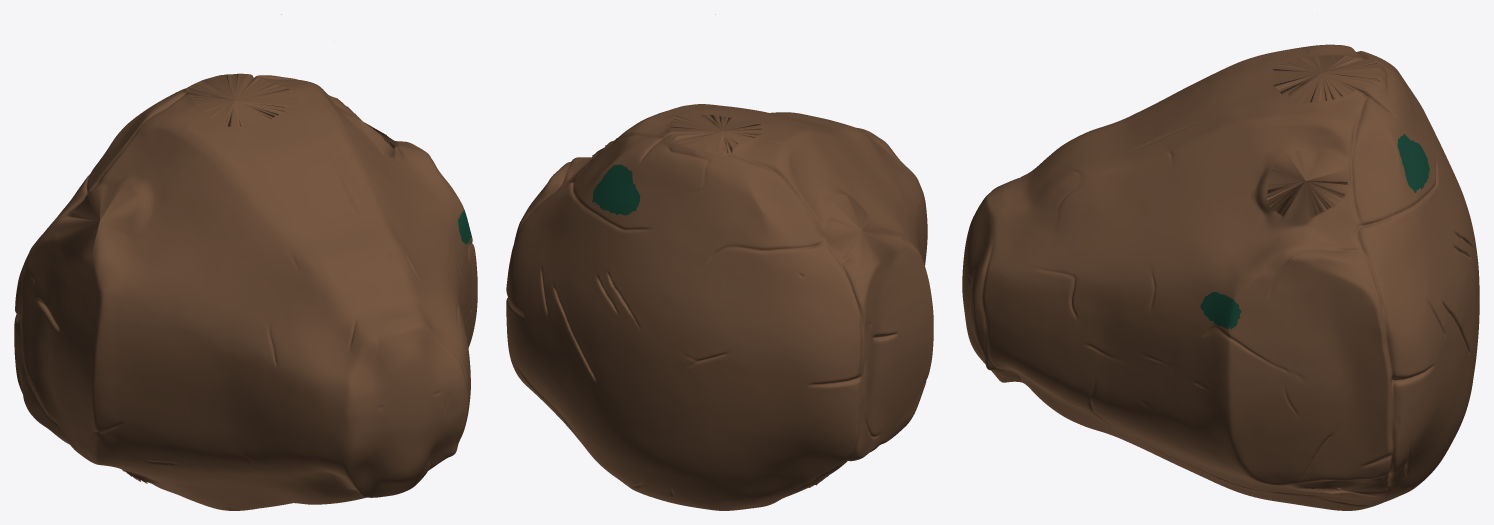
File: cuerpoRocky.obj
The picture shows the model from 3 angles, left to right: view 1: azimuth 30°, elevation 25°; view 2: azimuth 150°, elevation 25°; view 3: azimuth 270°, elevation 25°; orthographic projection. The views are drawn at different scales.
Visible parts, largest first — view 1: cuerpo_colorCafe; view 2: cuerpo_colorCafe, cuerpo_colorVerde.001; view 3: cuerpo_colorCafe, cuerpo_colorVerde.001.
Boxes of the visible parts, x1,y1,x2,y2 form: cuerpo_colorCafe: (14, 14, 477, 510); cuerpo_colorCafe: (506, 14, 933, 510); cuerpo_colorVerde.001: (592, 164, 640, 215); cuerpo_colorCafe: (962, 44, 1479, 510); cuerpo_colorVerde.001: (1200, 134, 1429, 329).
Size of the model in its own units: 0.3987 by 0.458 by 0.4415.
